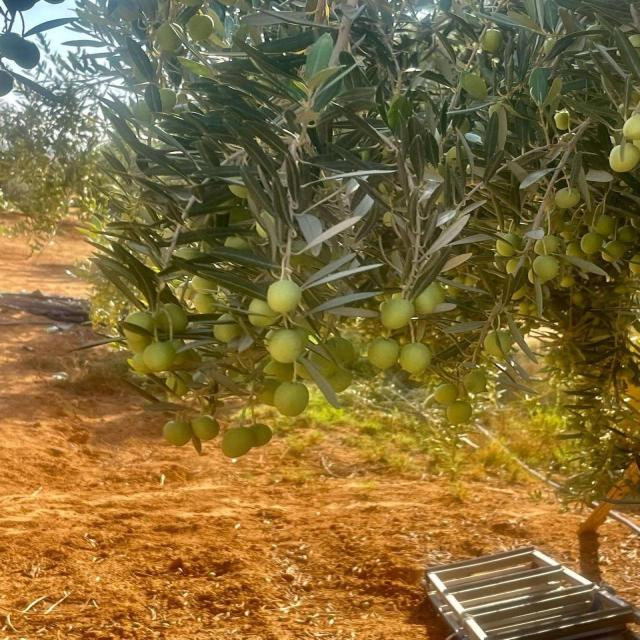Healthy: (121, 306, 199, 374), (581, 214, 639, 276), (609, 112, 639, 172), (266, 328, 315, 364), (221, 424, 272, 458), (162, 416, 219, 446), (175, 276, 220, 314), (532, 236, 559, 284), (274, 382, 309, 418), (380, 294, 415, 330), (267, 280, 301, 316), (399, 342, 431, 376), (367, 338, 400, 370), (413, 282, 445, 314), (155, 22, 187, 53), (483, 330, 514, 360), (186, 13, 215, 43), (248, 299, 279, 327), (213, 314, 241, 343), (445, 400, 472, 426), (496, 233, 523, 258), (463, 369, 487, 394), (433, 383, 459, 406), (555, 188, 581, 209)
